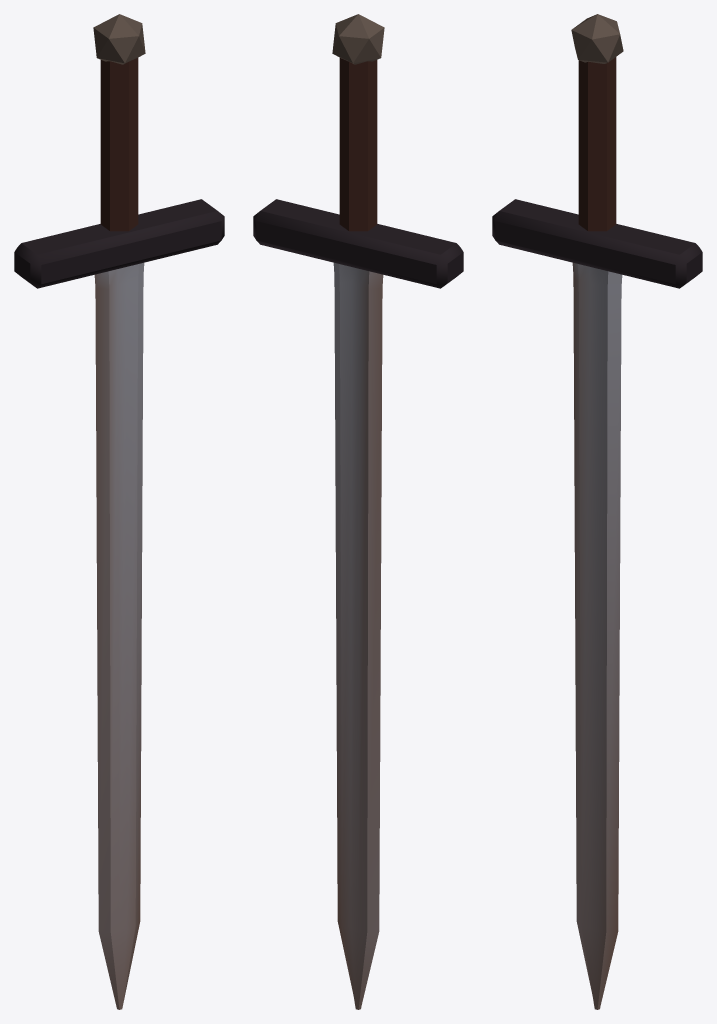
Rendered from rusty_sword.glb.
3 renders of one model, left to right at view 1: azimuth 30°, elevation 25°; view 2: azimuth 150°, elevation 25°; view 3: azimuth 330°, elevation 25°, orthographic.
Visible parts, largest first — view 1: rusty_sword; view 2: rusty_sword; view 3: rusty_sword.
Boxes of the visible parts, x1,y1,x2,y2 form: rusty_sword: [14, 14, 224, 1009]; rusty_sword: [253, 14, 463, 1009]; rusty_sword: [492, 14, 702, 1009].
Bounding box in the file's own units: 0.42 × 2.06 × 0.0936.
